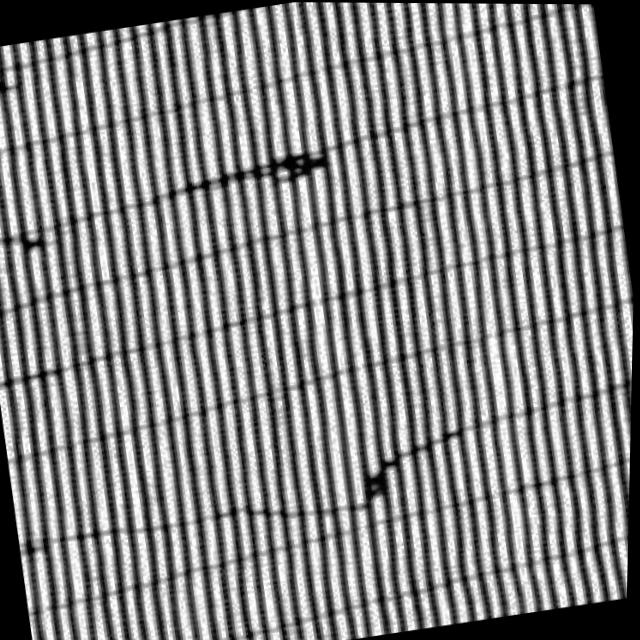Stitch: (135, 108, 359, 225)
